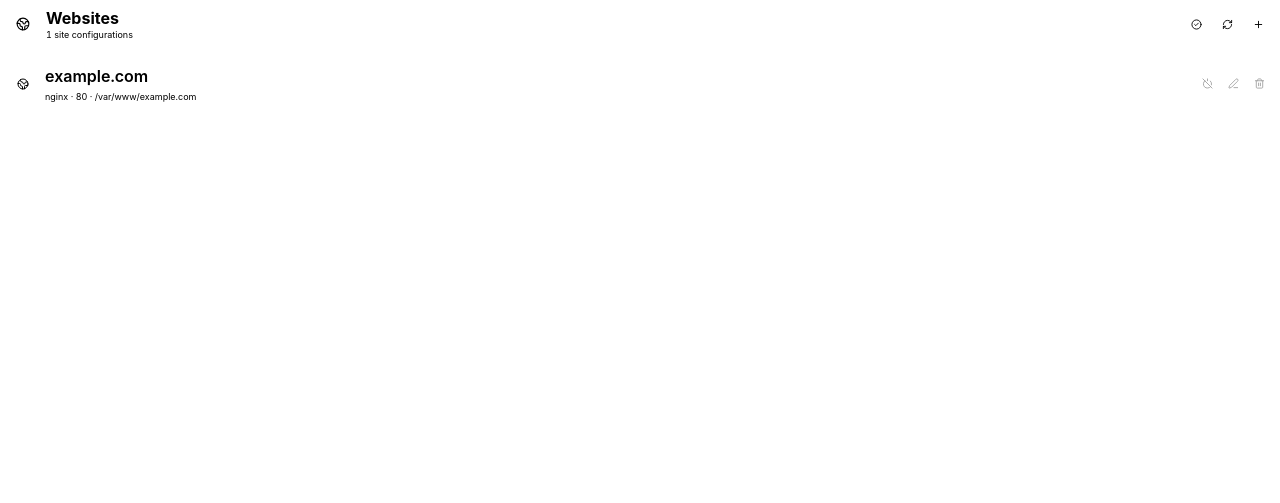
Scenario: WebsitePanel discard prompt › closes an untouched editor without asking
Click the button titled "Edit site". click: (1233, 84)
box: [1221,72,1245,96]
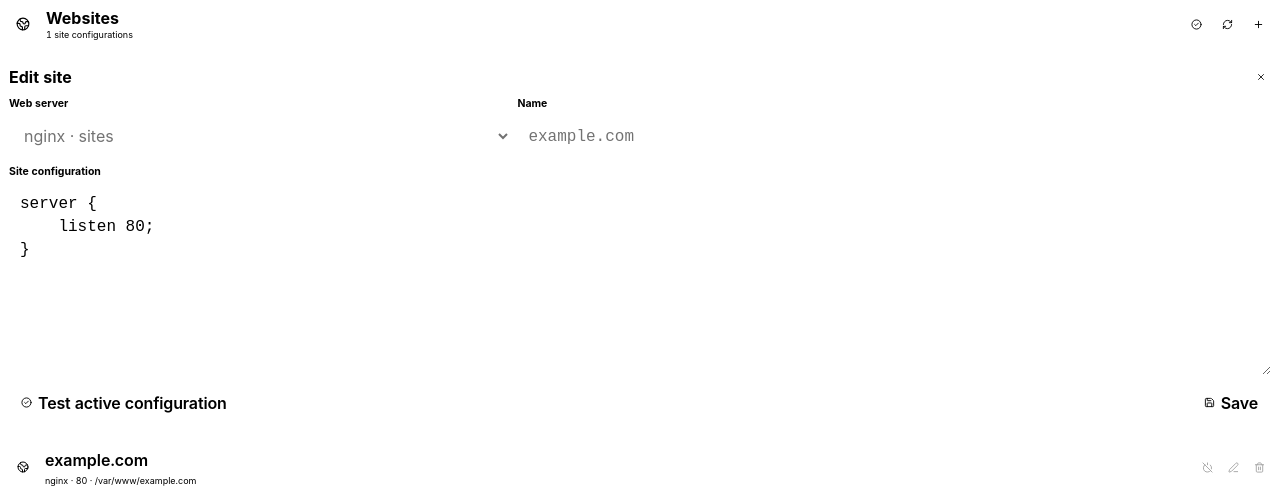
Click the button titled "Close". click: (1261, 77)
box: [1251,67,1271,87]
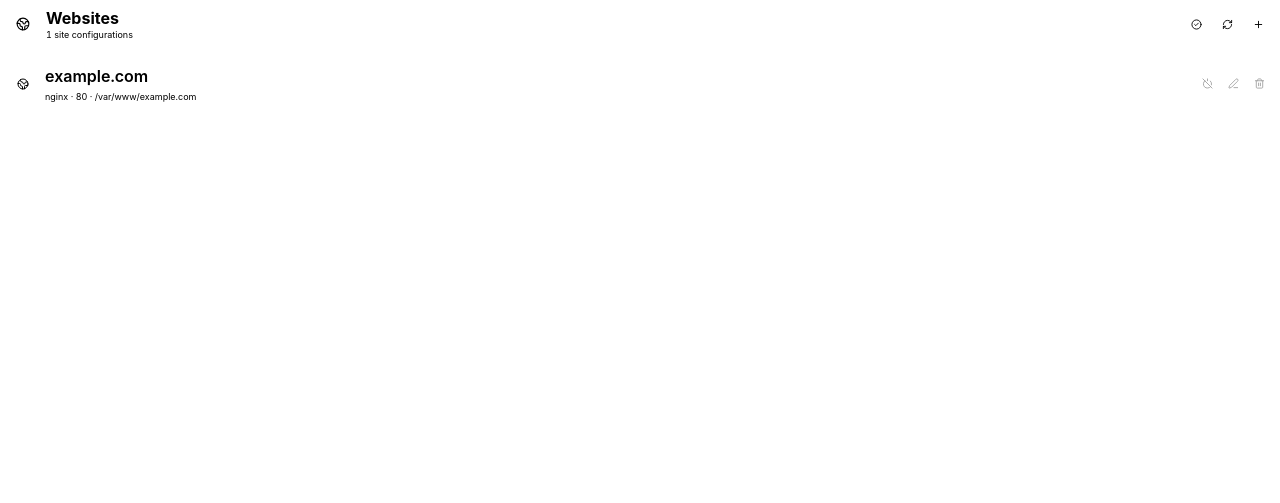
Check: the text box with class "site-config-input" is gone
